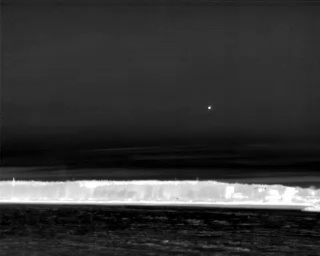HELICOPTER: (205, 103, 214, 114)
